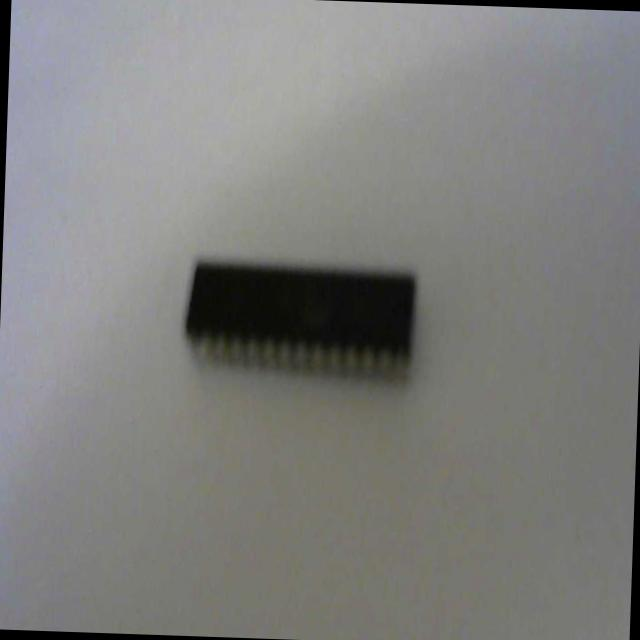atmega: (180, 250, 420, 390)
